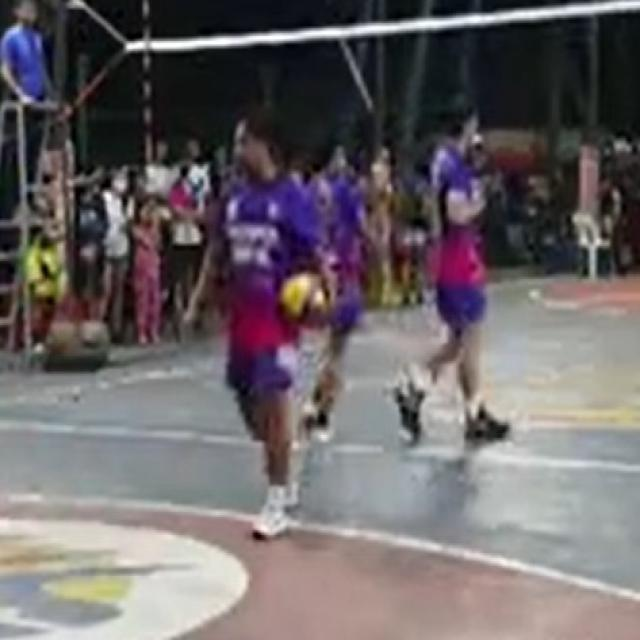volleyball: (280, 270, 332, 324)
